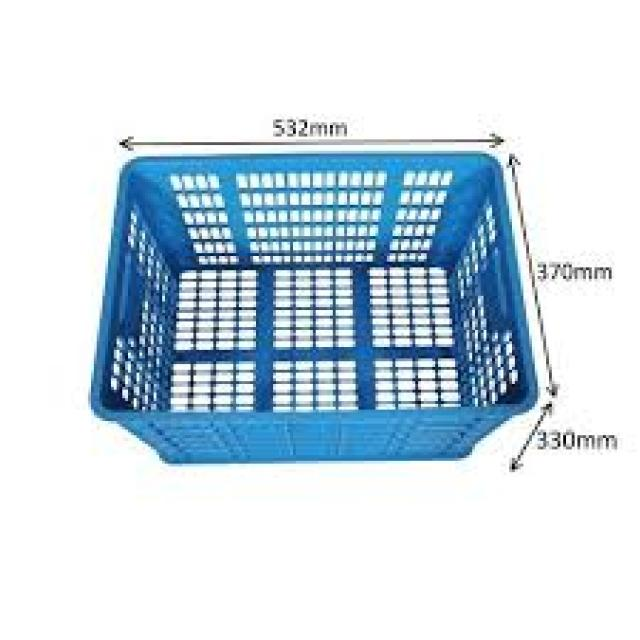basket: (91, 139, 558, 472)
